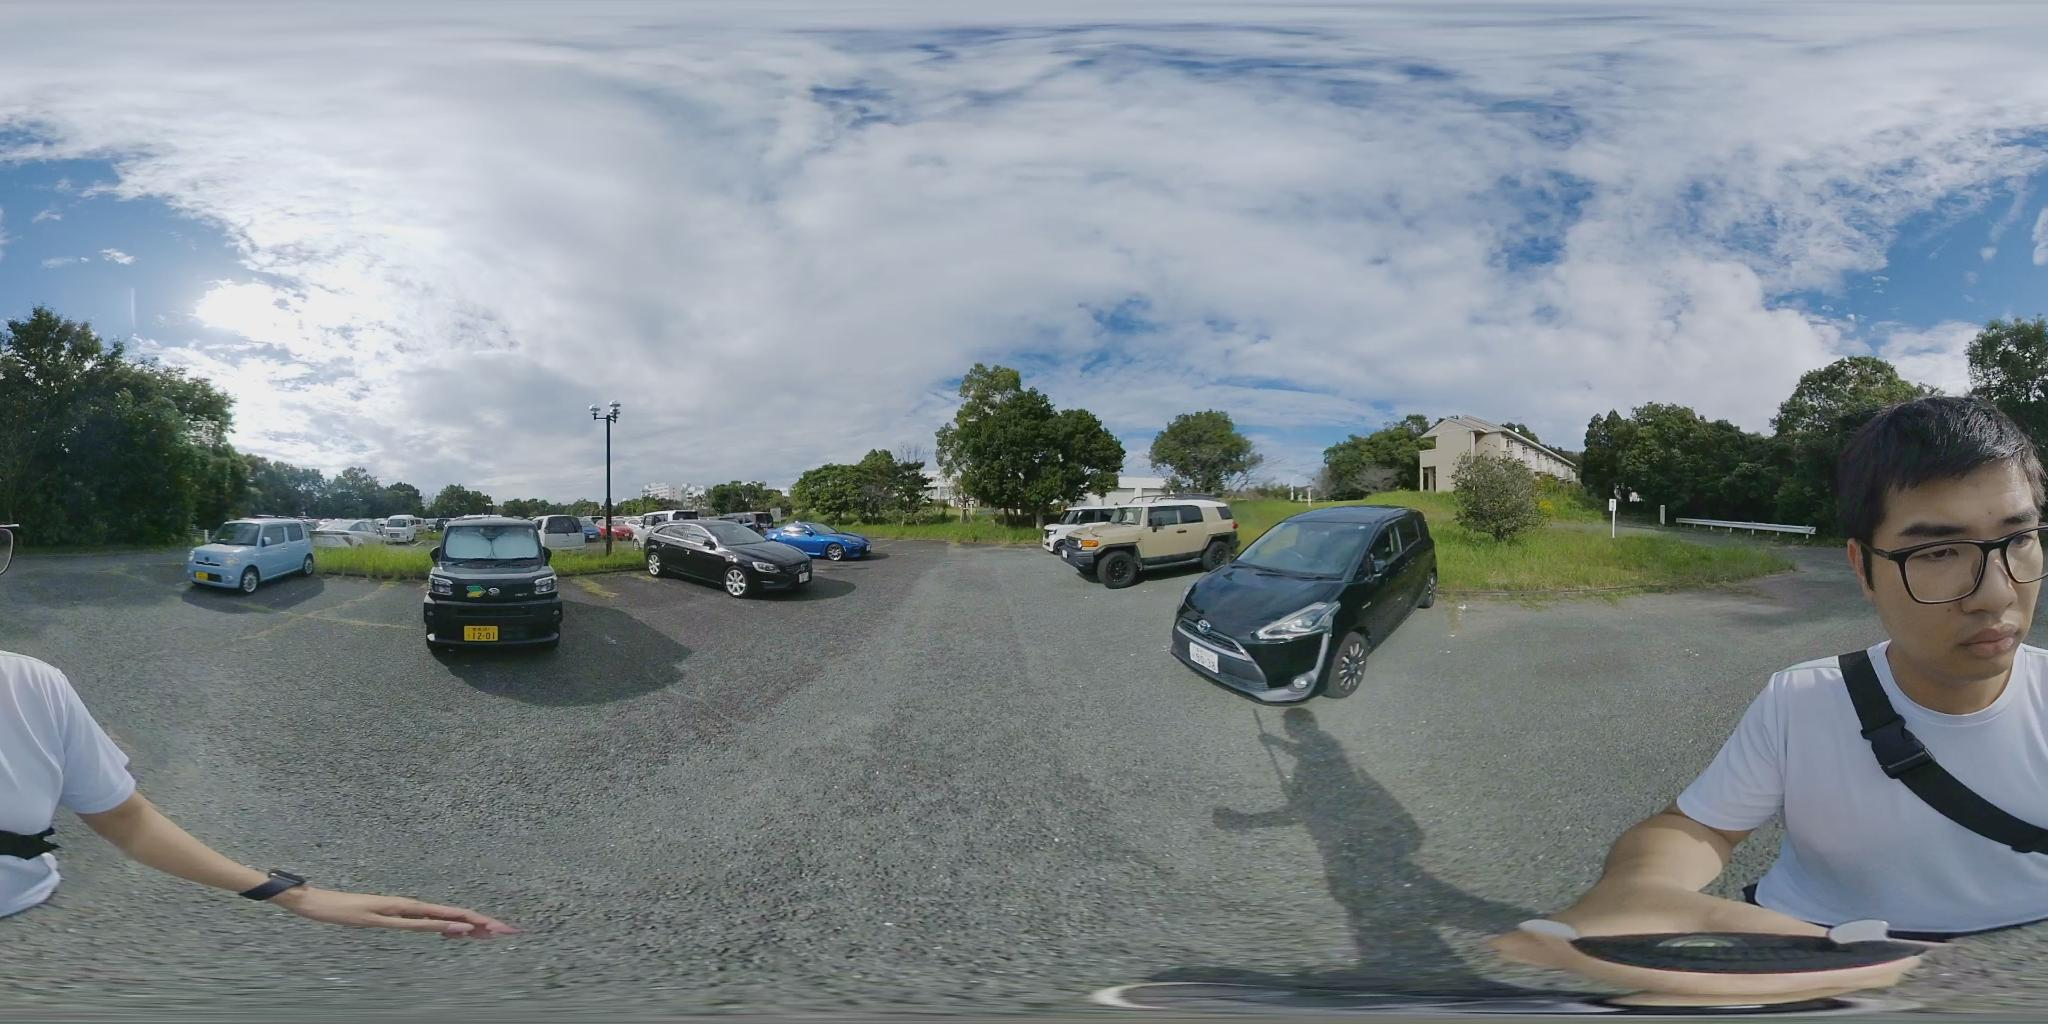car: (1174, 500, 1435, 700), (424, 519, 568, 652), (1071, 500, 1240, 592), (649, 519, 810, 596), (185, 519, 317, 594), (767, 521, 871, 559)
